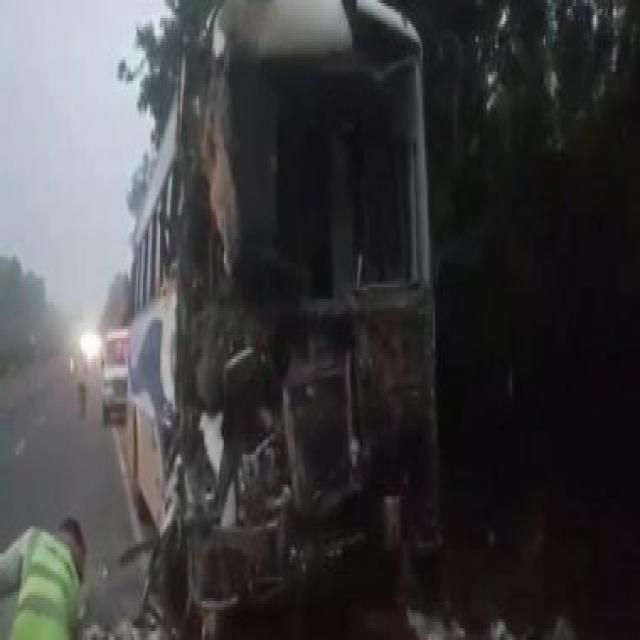accident: (131, 0, 436, 630)
